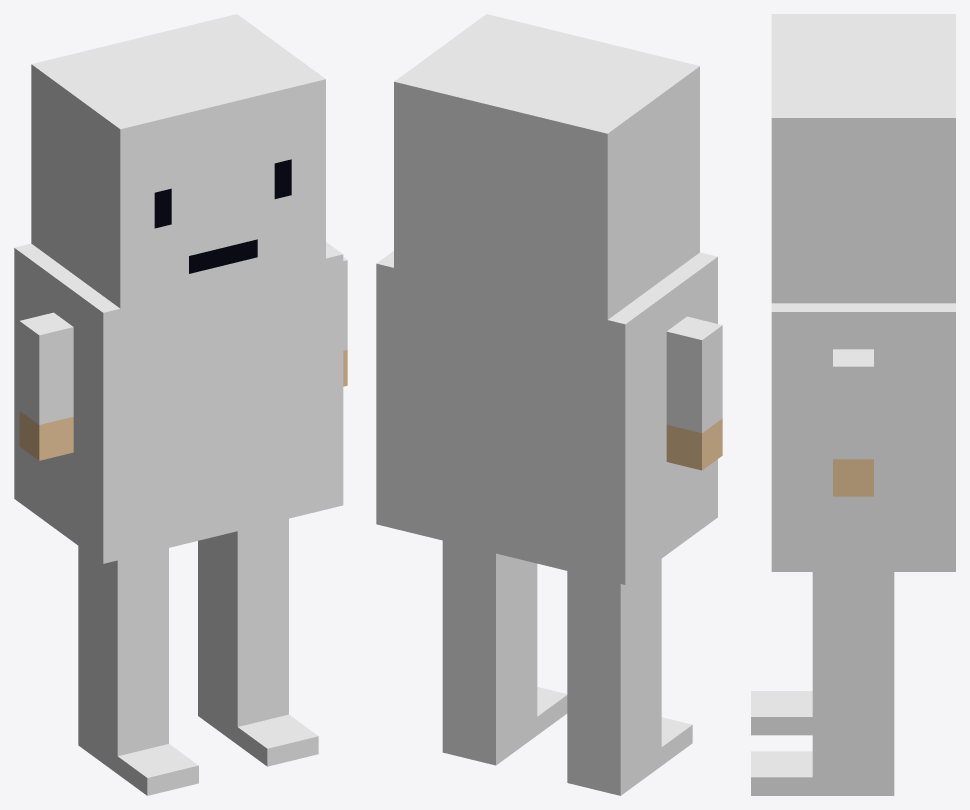
The model's file is Player6.obj.
The picture shows the model from 3 angles, left to right: view 1: azimuth 30°, elevation 25°; view 2: azimuth 150°, elevation 25°; view 3: azimuth 270°, elevation 25°; orthographic projection. The views are drawn at different scales.
Visible parts, largest first — view 1: Player6; view 2: Player6; view 3: Player6.
Boxes of the visible parts, bbox=[...] form: Player6: bbox=[14, 14, 347, 795]; Player6: bbox=[376, 14, 722, 795]; Player6: bbox=[751, 14, 955, 795].
Bounding box in the file's own units: 18 × 37 × 10.
